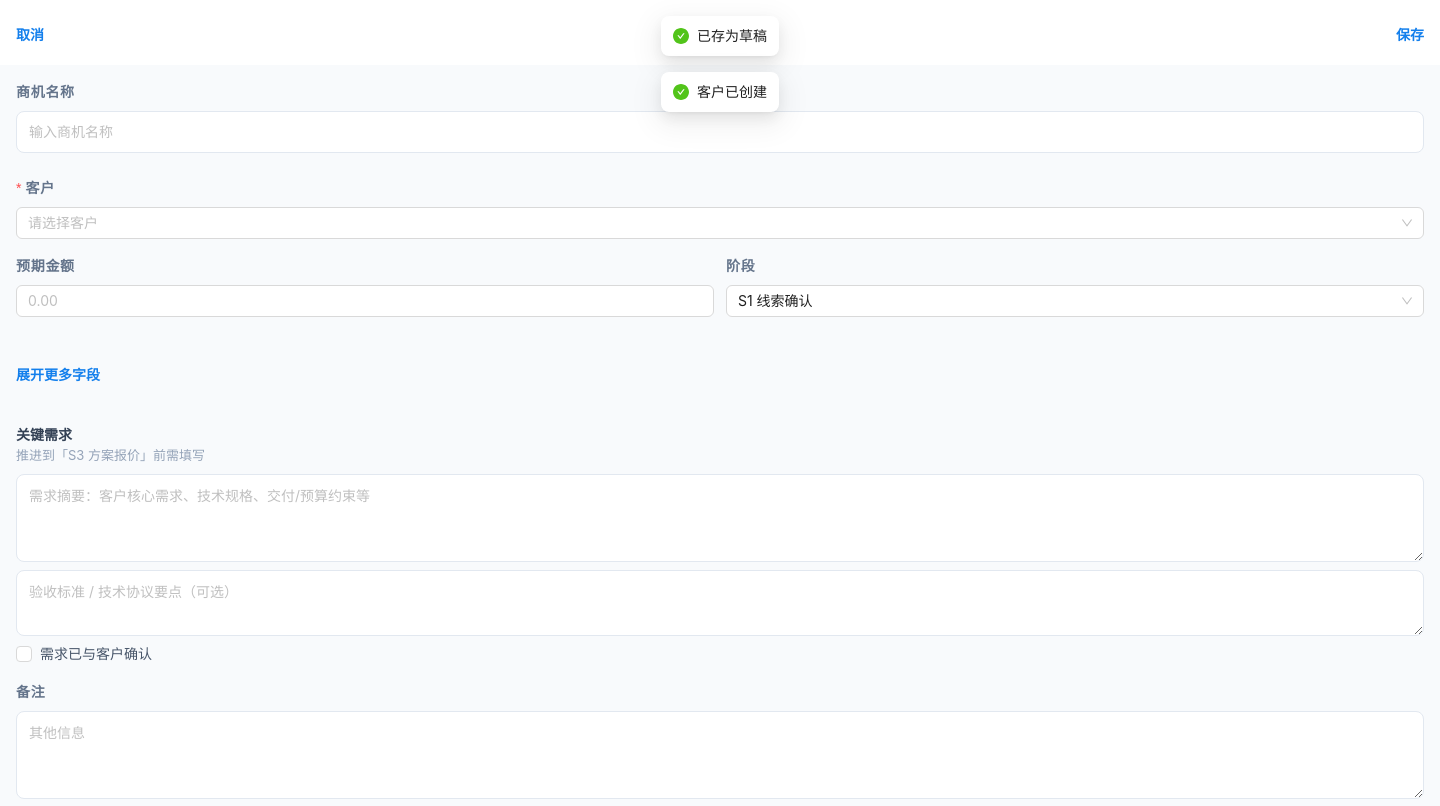
Test: MobileOpportunityForm › 渲染并展开更多字段
The image size is (1440, 806).
Expected: the heading "新建商机" is shown, [688, 23, 752, 47]
Click the button "展开更多字段".
click(58, 375)  # box [16, 357, 1424, 393]
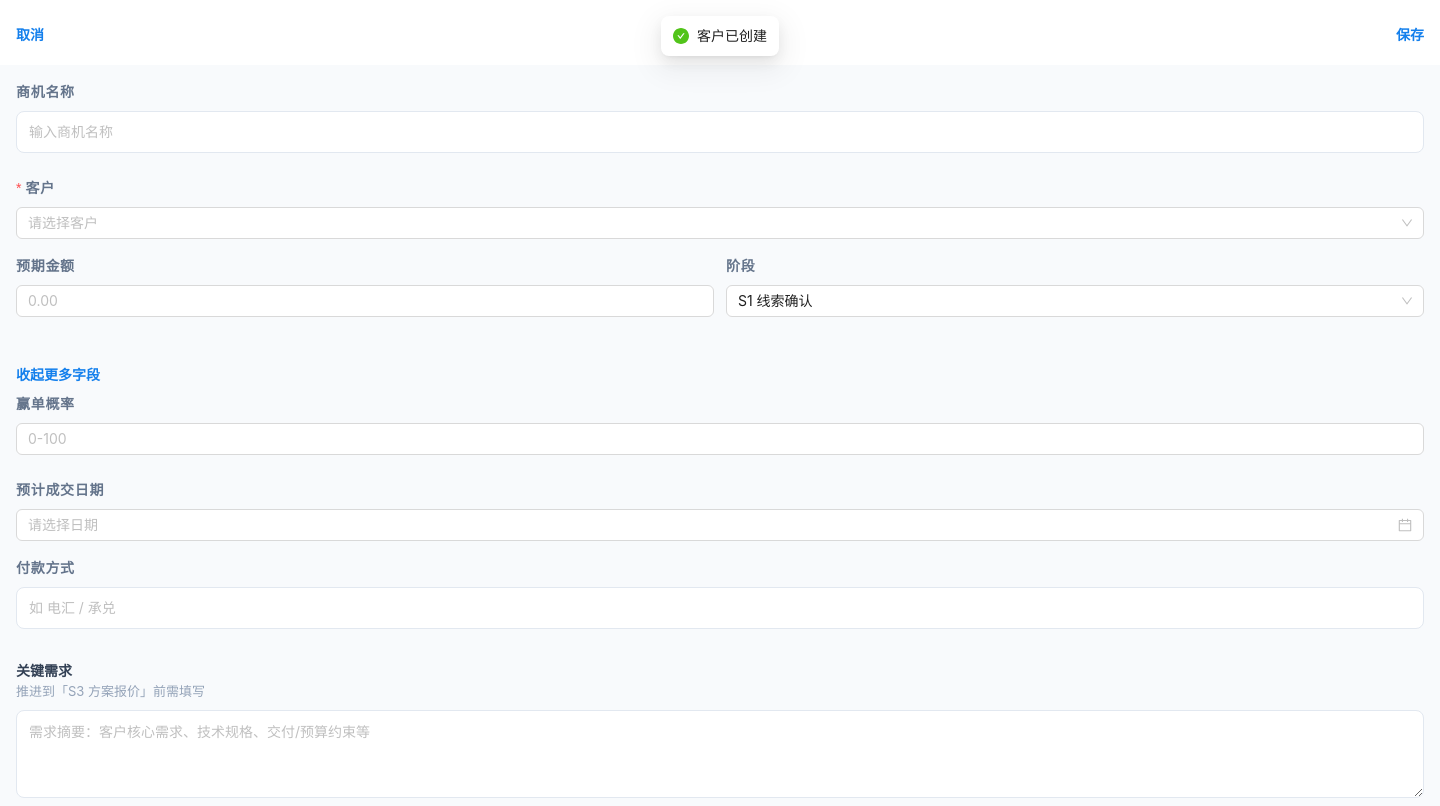
Now the text "赢单概率" is shown, box [16, 394, 75, 414]
Now the text "付款方式" is shown, box [16, 558, 75, 578]
